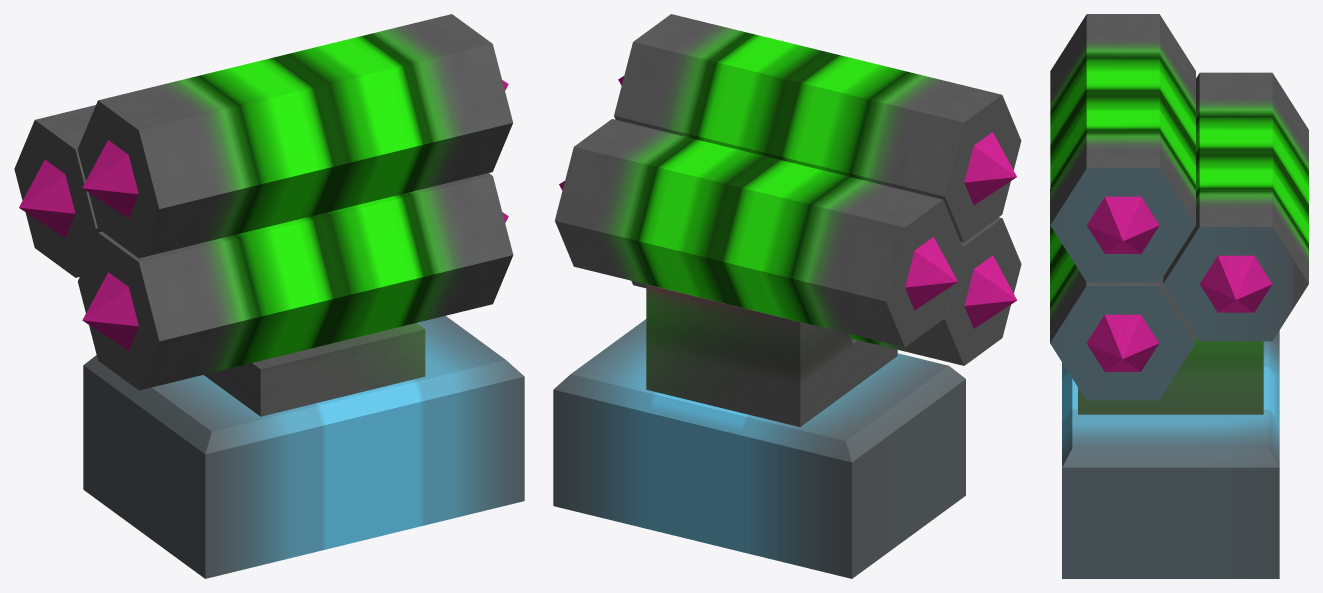
File: EngineBlock.FBX
3 renders of one model, left to right at view 1: azimuth 30°, elevation 25°; view 2: azimuth 150°, elevation 25°; view 3: azimuth 270°, elevation 25°, orthographic. The views are drawn at different scales.
Visible parts, largest first — view 1: Box002; view 2: Box002; view 3: Box002.
Boxes of the visible parts, bbox=[...] form: Box002: bbox=[14, 14, 524, 578]; Box002: bbox=[553, 14, 1021, 578]; Box002: bbox=[1050, 14, 1308, 578].
Size of the model in its own units: 70.7 by 71.48 by 41.63.
1 material, 1 textured.
